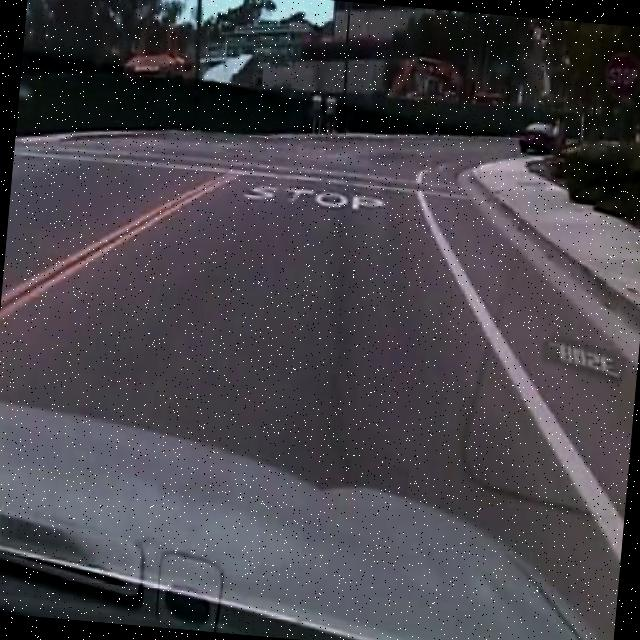Stop: (600, 48, 640, 104)
